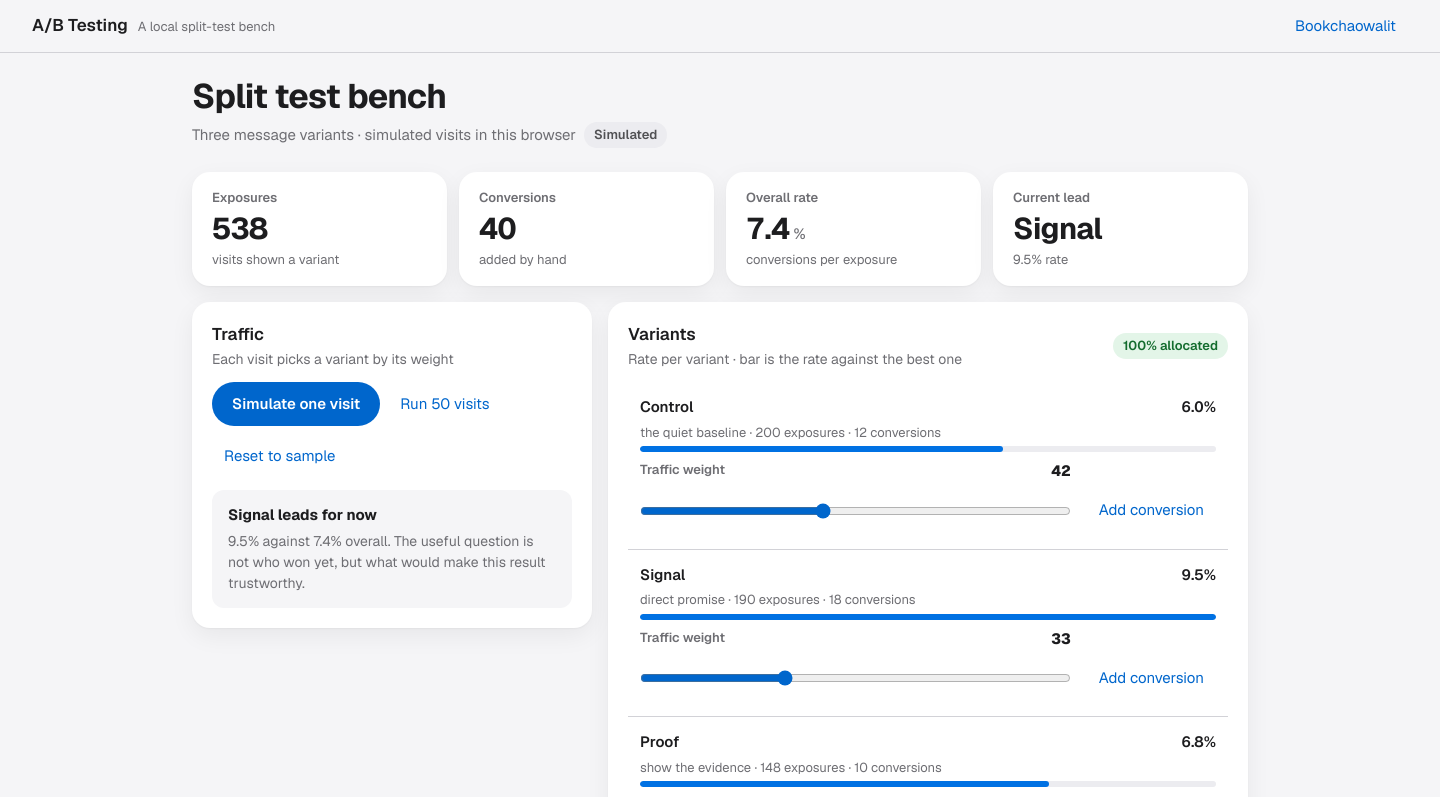
Test: A/B bench › simulates visits by weight and resets to the sample
The image size is (1440, 797).
Click the button "Simulate one visit" at (296, 404), box [212, 382, 380, 426]
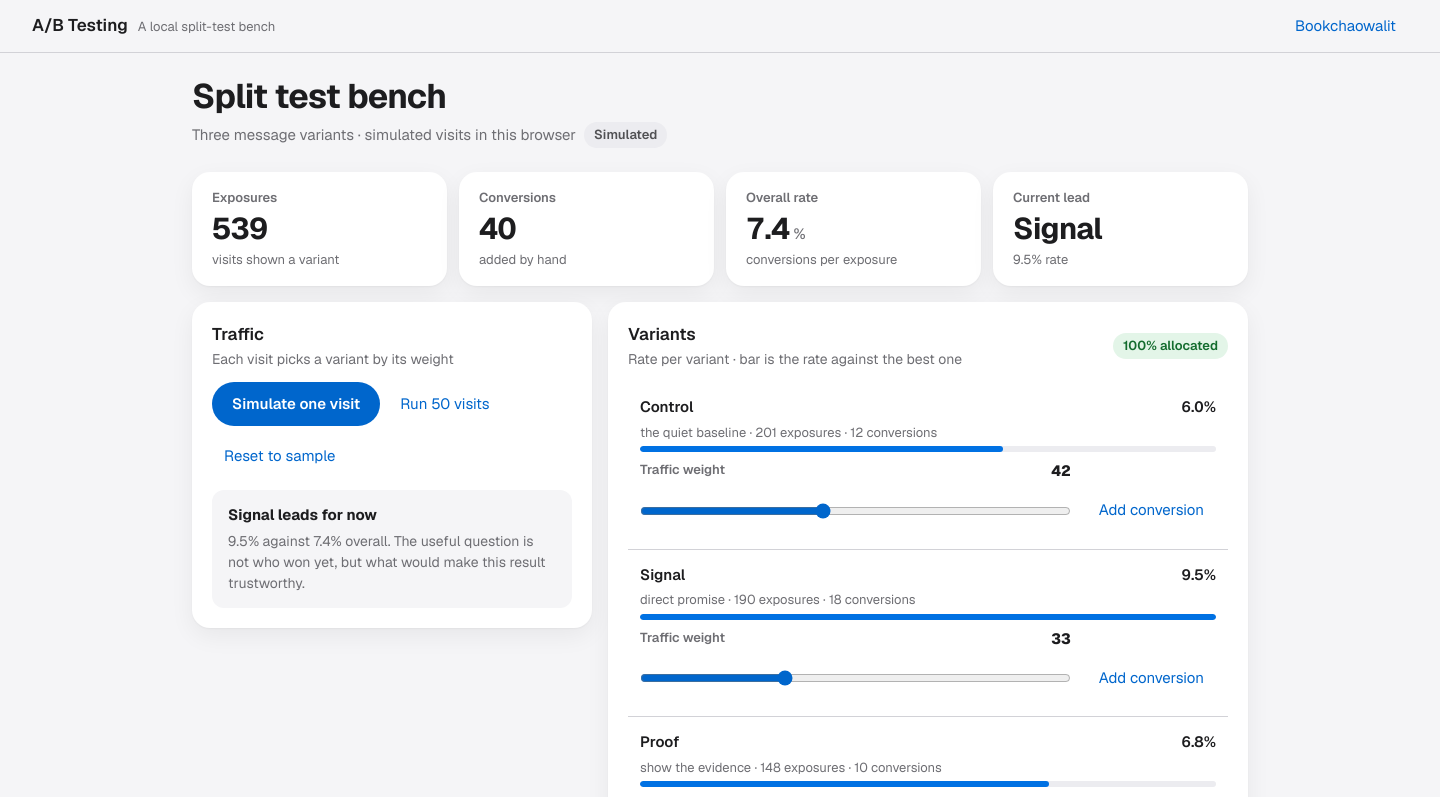
Now the list item with class "ds-stat" reads "Exposures 539 visits shown a variant", box [192, 172, 447, 286]
Click the button "Run 50 visits" at (445, 404), box [388, 382, 502, 426]
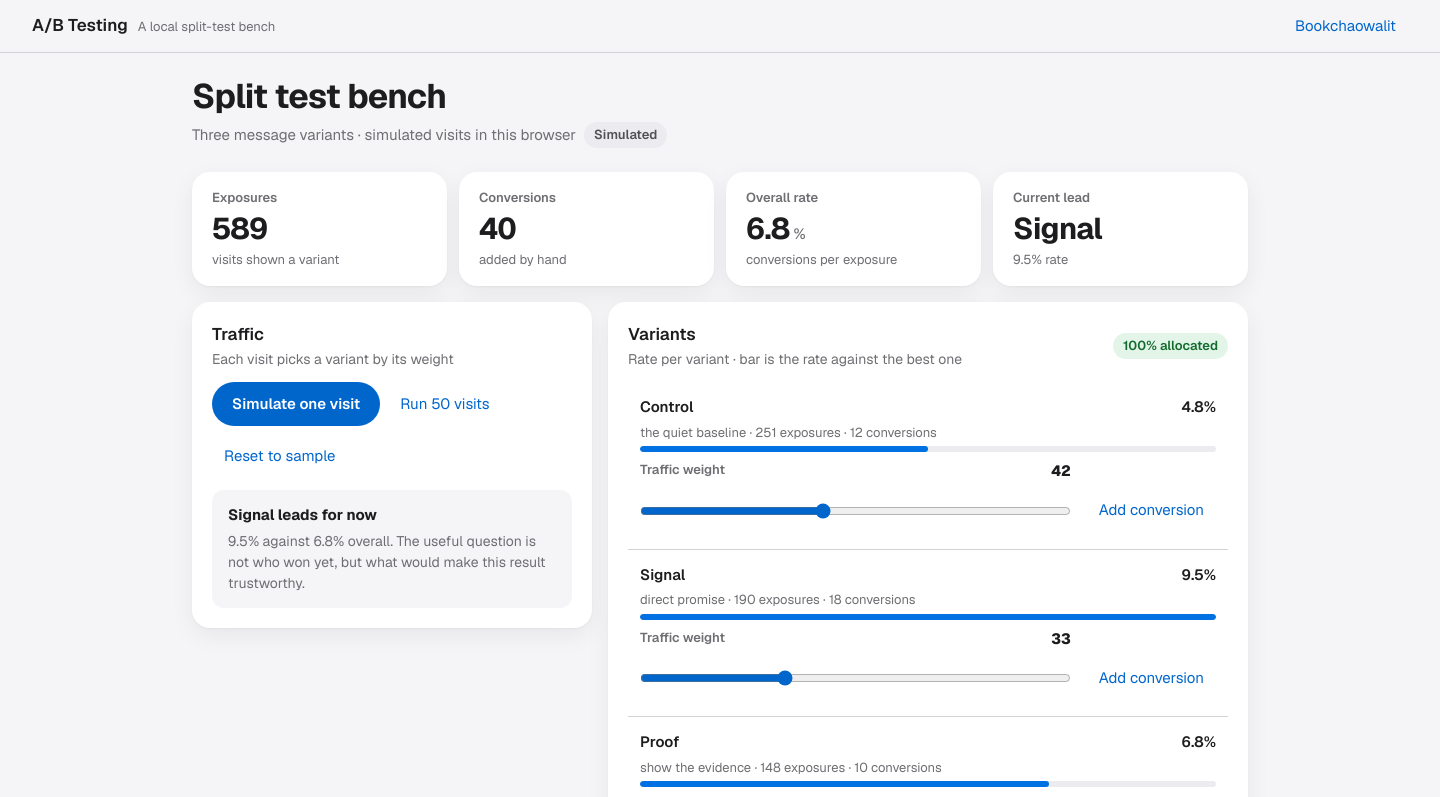
Now the list item with class "ds-stat" reads "Exposures 589 visits shown a variant", box [192, 172, 447, 286]
Now the text with class "ds-row-detail" shows "251 exposures", box [640, 424, 937, 441]
Click the button "Reset to sample" at (280, 456), box [212, 434, 348, 478]
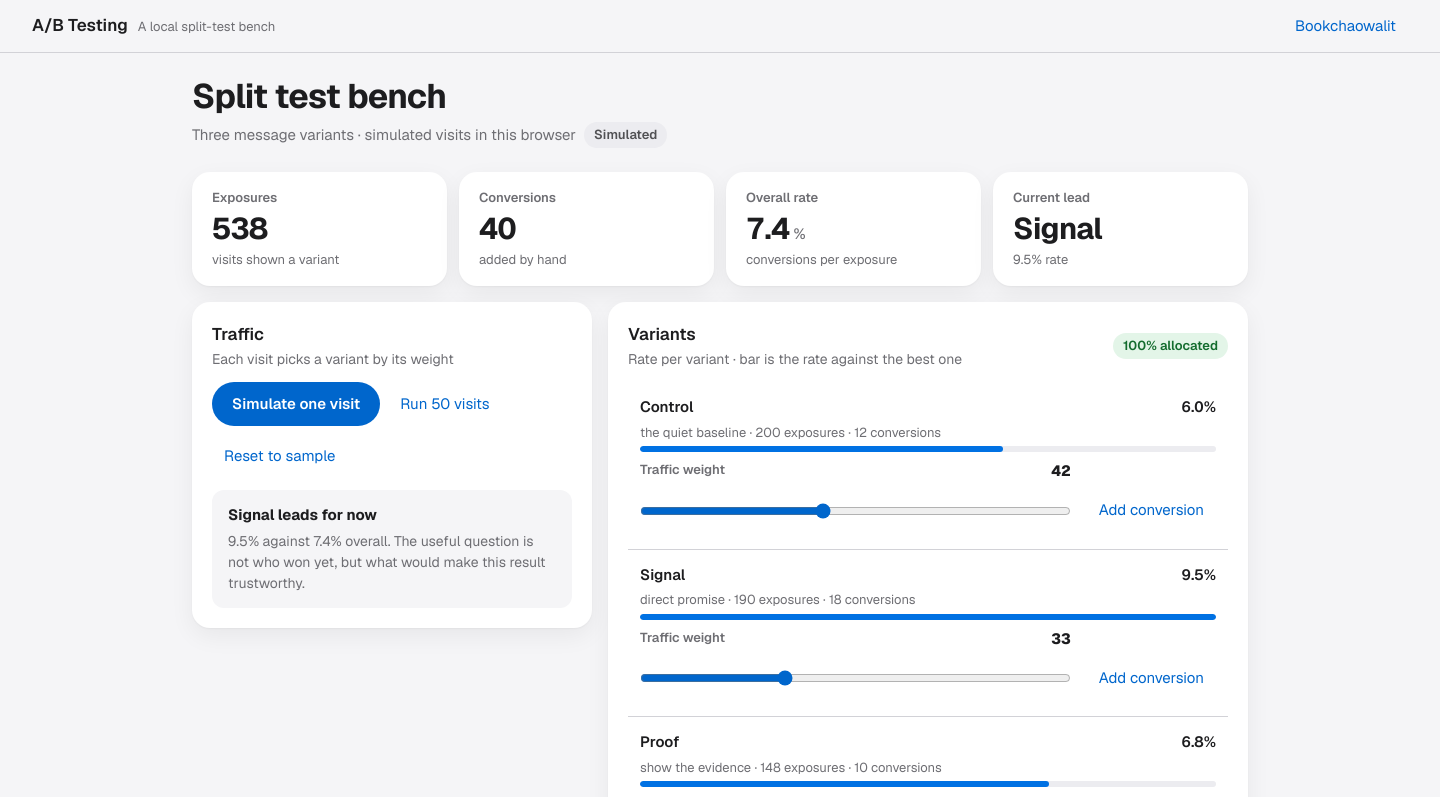
Now the list item with class "ds-stat" reads "Exposures 538 visits shown a variant", box [192, 172, 447, 286]
